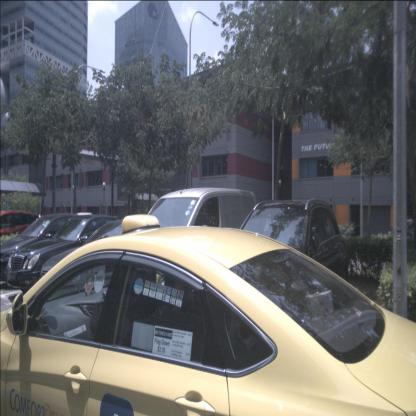vehicle-car: (0, 226, 416, 416), (124, 187, 256, 324), (218, 199, 348, 337), (40, 219, 171, 290), (3, 215, 122, 291), (0, 213, 122, 285), (0, 211, 40, 249)
